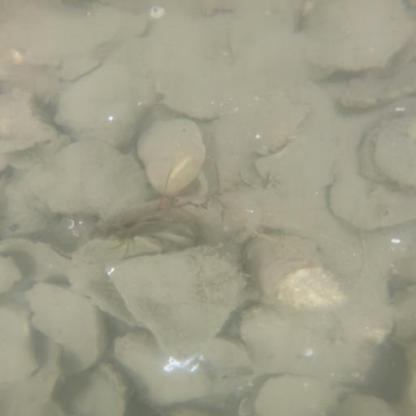Oyster- Indeterminate: (69, 365, 127, 416)
Oyster-Closed: (100, 242, 252, 361), (112, 330, 262, 406), (26, 140, 154, 218), (295, 0, 411, 80), (238, 226, 347, 308), (24, 283, 113, 376), (56, 61, 140, 146), (328, 160, 416, 230), (137, 116, 207, 197), (253, 374, 344, 416), (0, 90, 56, 154), (373, 118, 415, 190)
